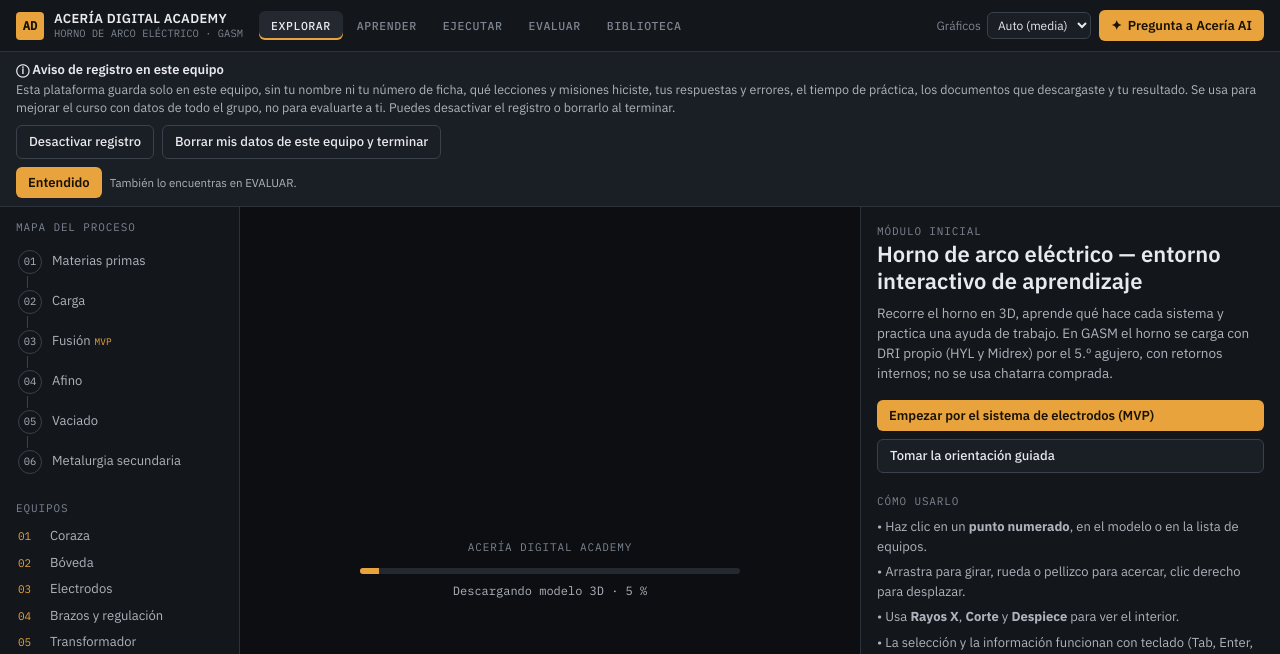
Test: modos › cada lección dice en texto qué equipos resalta el 3D y sus palabras del glosario (TRN-13)
Click the button with test id "mode-learn": (387, 26) [345,11,429,40]
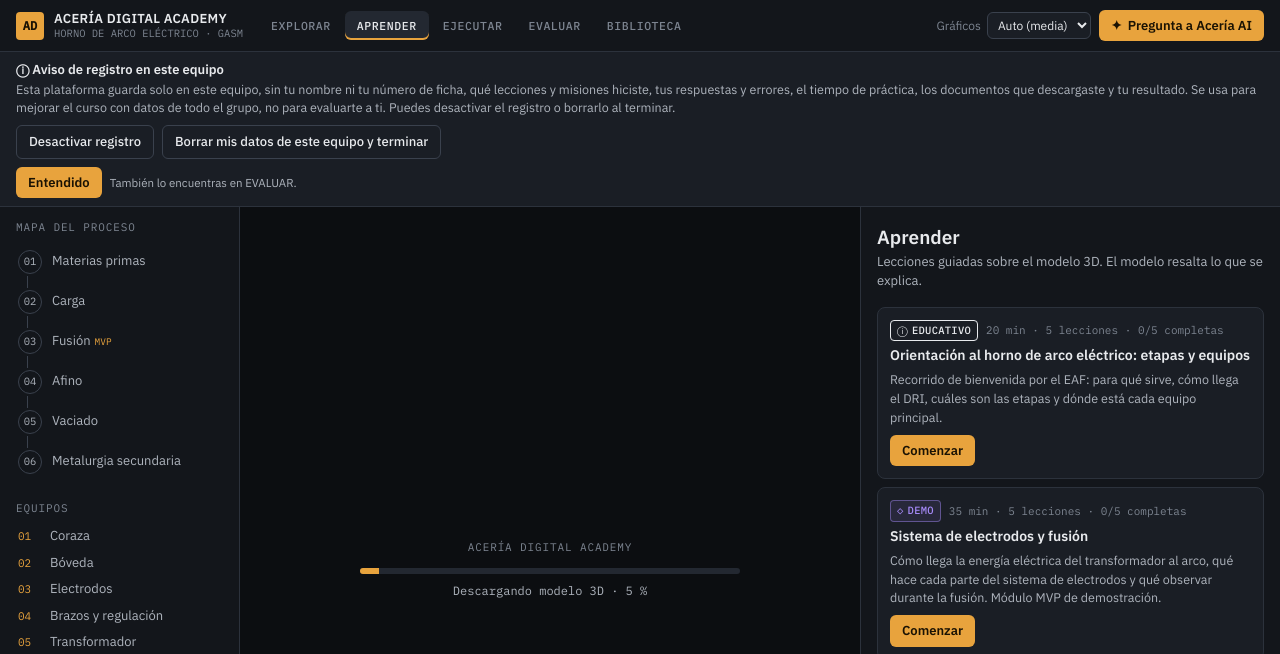
Click the button with test id "open-mod.electrode-melting": (932, 631) [890,615,975,646]
(page scrolled)
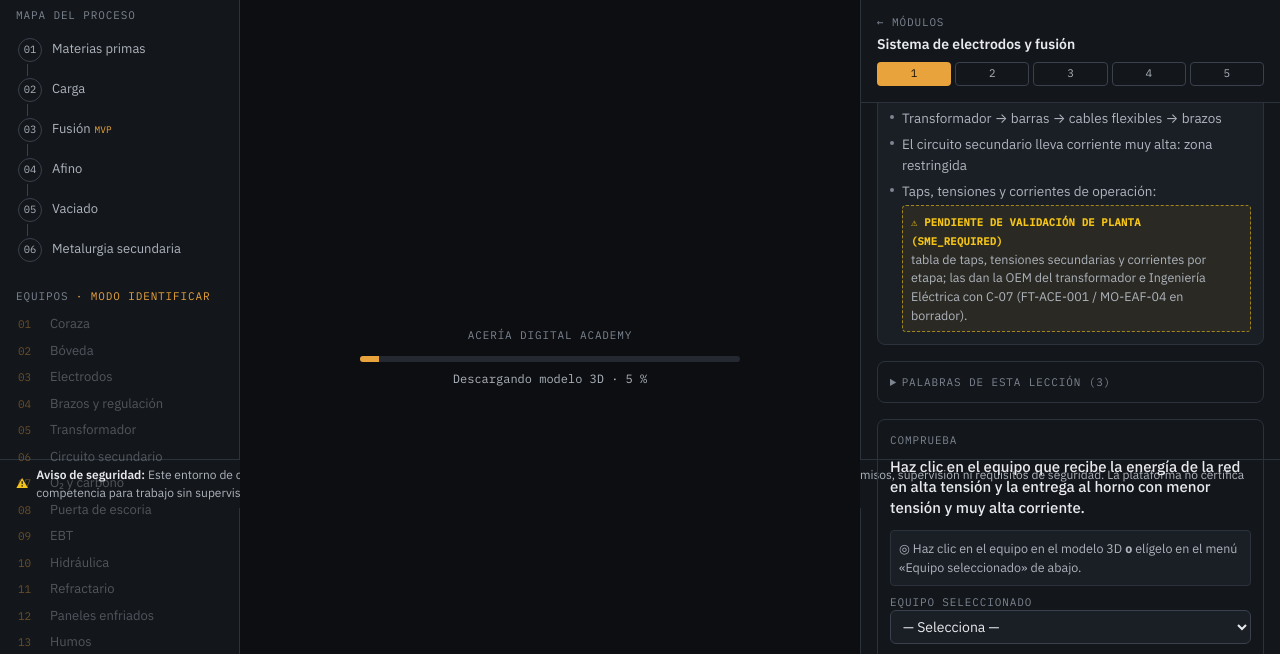
Now the element with test id "lesson-words" is shown, box [877,360,1264,403]
